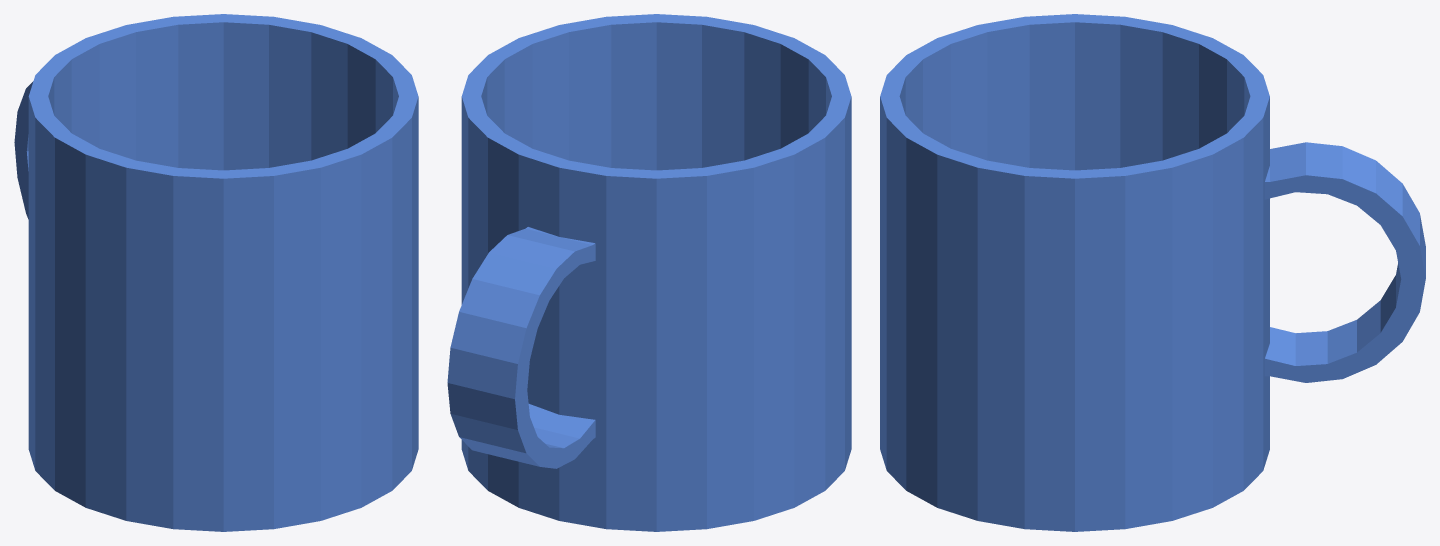
3 renders of one model, left to right at view 1: azimuth 30°, elevation 25°; view 2: azimuth 150°, elevation 25°; view 3: azimuth 270°, elevation 25°, orthographic.
Size of the model in its own units: 0.5025 by 0.5025 by 0.7035.
